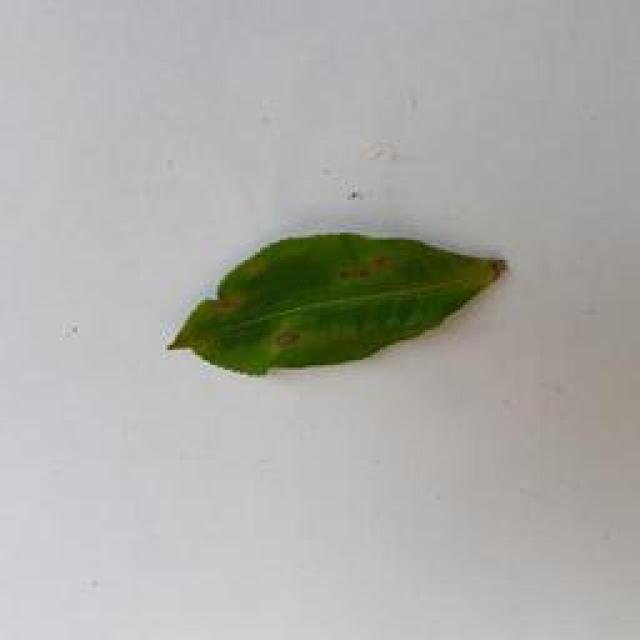Helopeltis: (172, 216, 525, 391)
